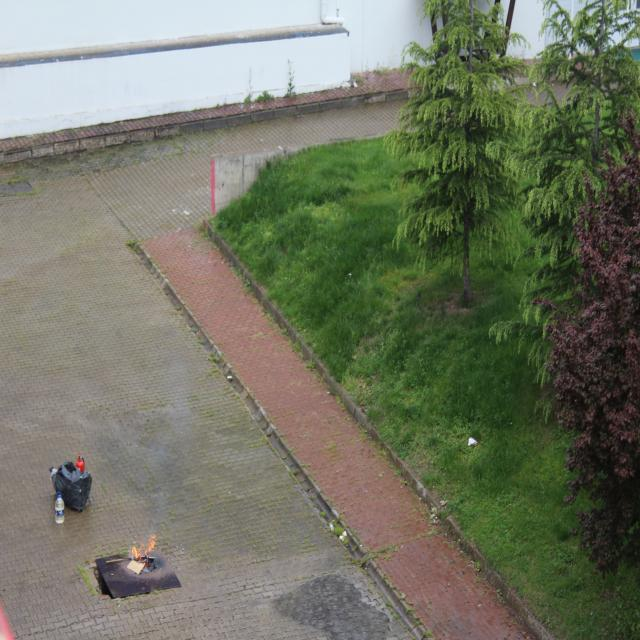fire: (132, 528, 158, 568)
